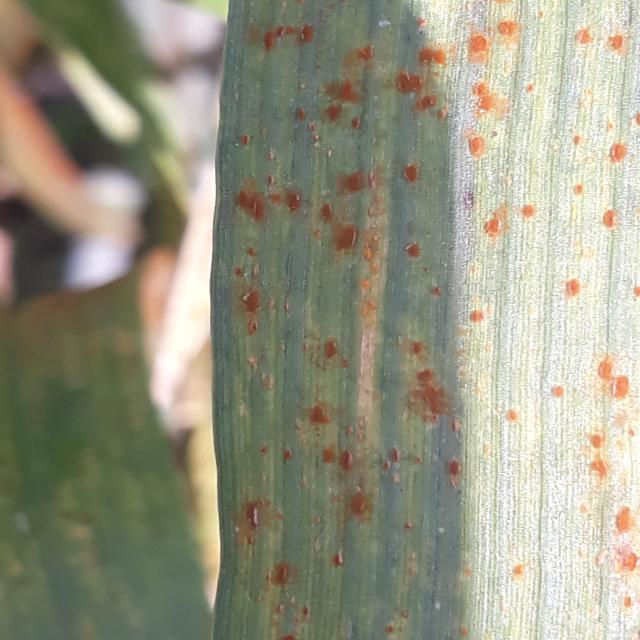orang_rust: (196, 0, 640, 640)
